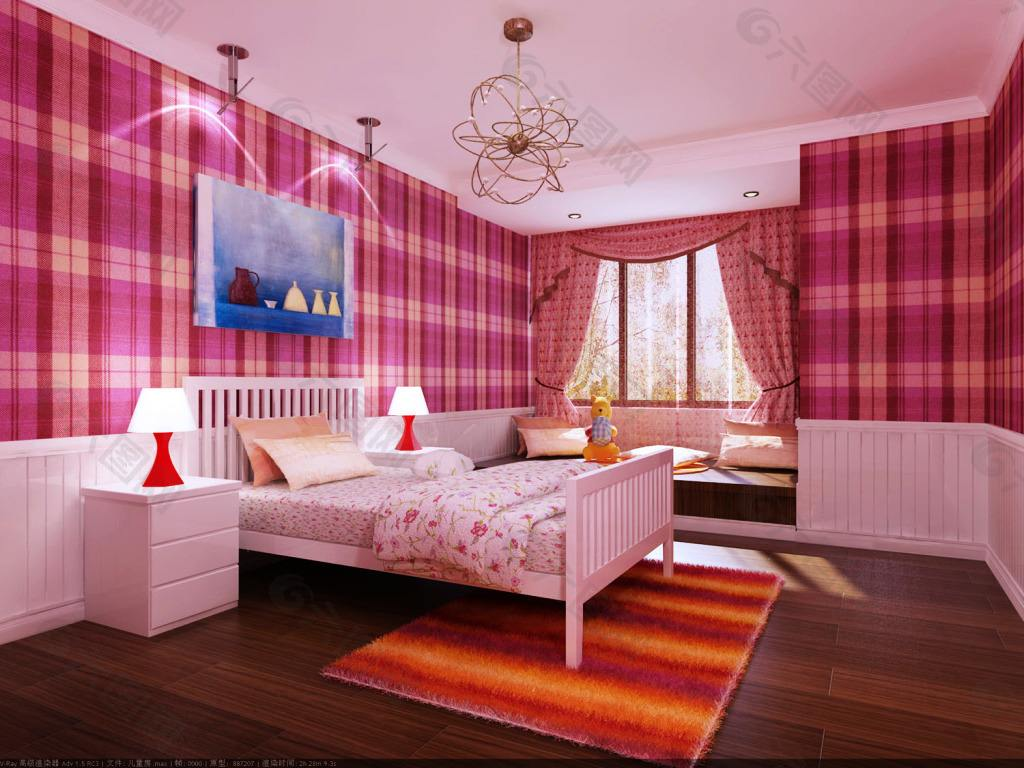床: (234, 450, 671, 617)
枕头: (239, 425, 387, 491), (718, 416, 802, 480), (509, 416, 600, 470)
灯: (461, 19, 592, 214), (127, 384, 193, 489), (210, 38, 257, 123), (381, 382, 433, 454), (354, 109, 387, 177), (740, 187, 763, 202)
